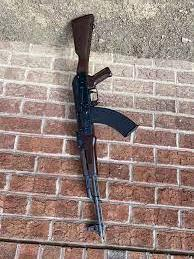larga: (70, 14, 138, 238)
